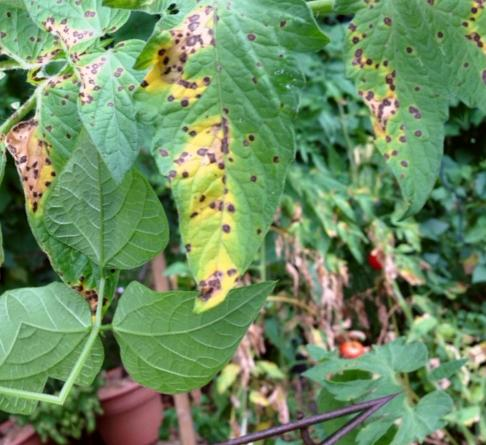Tomato Septoria leaf spot: (74, 0, 380, 316), (287, 0, 486, 214), (60, 39, 176, 194)
Tomato leaf: (0, 248, 122, 402)
